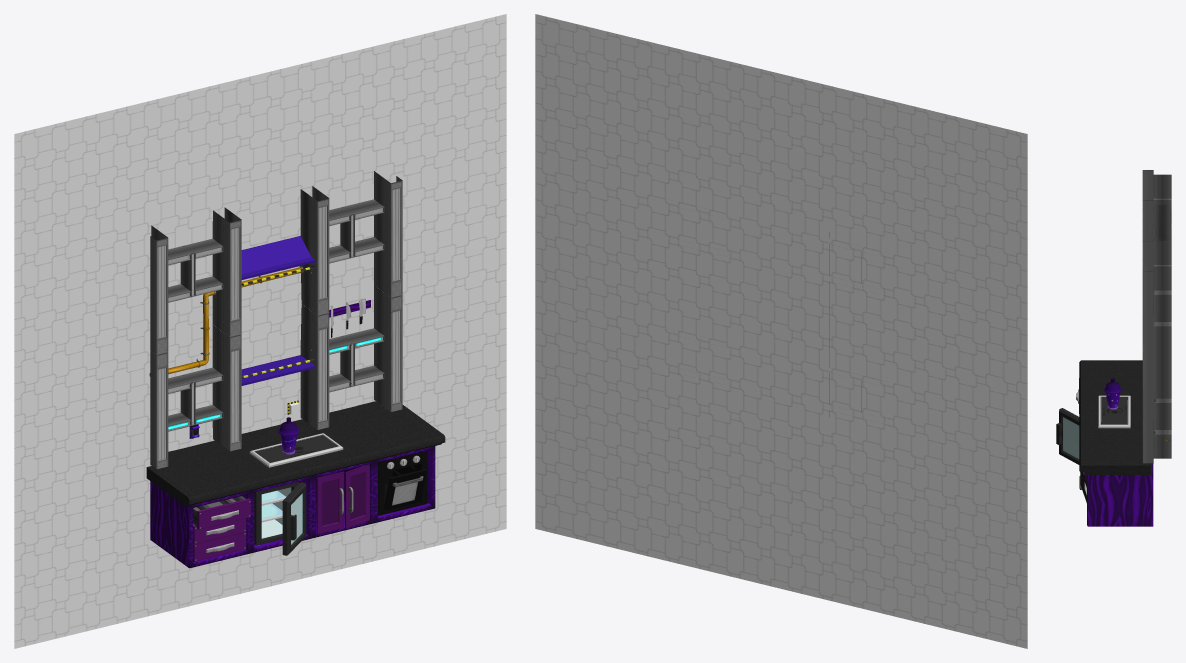
File: Cocina.fbx
The picture shows the model from 3 angles, left to right: view 1: azimuth 30°, elevation 25°; view 2: azimuth 150°, elevation 25°; view 3: azimuth 270°, elevation 25°; orthographic projection. The views are drawn at different scales.
Parts seen in each view (by area): view 1: Plane001, Parte Superior001, Parte Superior, MesaMarmol, MesaMadera, ClosetDoor, PlataformaMesa, FreezerDoor, FurnanceBody, ClosetDoor001, Cajon, FurnanceDoor (+3 smaller); view 2: Plane001; view 3: MesaMarmol, Parte Superior001, MesaMadera, Parte Superior, FreezerDoor, PlataformaMesa, MixerBot, MixerTop.
Boxes of the visible parts, left/top/right/bottom form: Plane001: left=14, top=14, right=506, bottom=648; Parte Superior001: left=150, top=171, right=402, bottom=354; Parte Superior: left=150, top=285, right=402, bottom=469; MesaMarmol: left=146, top=401, right=445, bottom=506; MesaMadera: left=150, top=446, right=435, bottom=568; ClosetDoor: left=316, top=471, right=344, bottom=534; PlataformaMesa: left=249, top=433, right=343, bottom=467; FreezerDoor: left=282, top=482, right=306, bottom=555; FurnanceBody: left=378, top=450, right=427, bottom=515; ClosetDoor001: left=345, top=464, right=369, bottom=528; Cajon: left=193, top=496, right=251, bottom=529; FurnanceDoor: left=384, top=469, right=426, bottom=510; Plane001: left=535, top=14, right=1027, bottom=648; MesaMarmol: left=1079, top=360, right=1150, bottom=474; Parte Superior001: left=1142, top=170, right=1171, bottom=367; MesaMadera: left=1087, top=463, right=1153, bottom=526; Parte Superior: left=1142, top=362, right=1171, bottom=463; FreezerDoor: left=1056, top=408, right=1079, bottom=464; PlataformaMesa: left=1098, top=395, right=1130, bottom=428; MixerBot: left=1106, top=393, right=1119, bottom=409; MixerTop: left=1104, top=378, right=1121, bottom=393.
Size of the model in its own units: 3000 by 3000 by 724.
